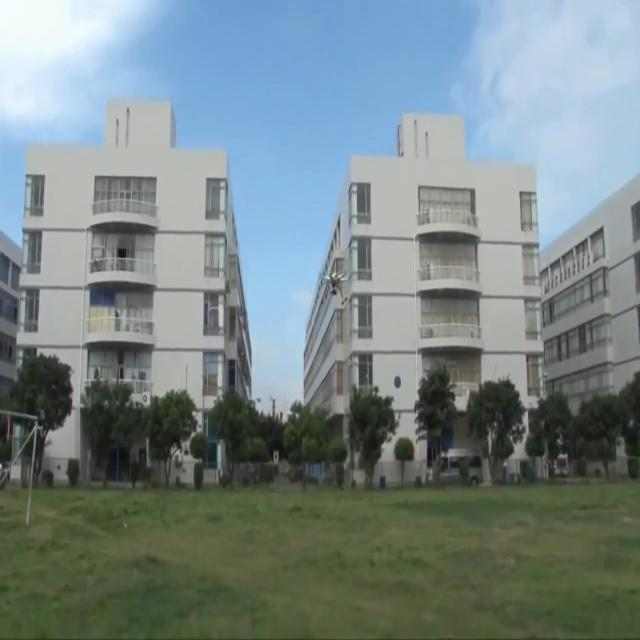drone: (321, 269, 347, 305)
